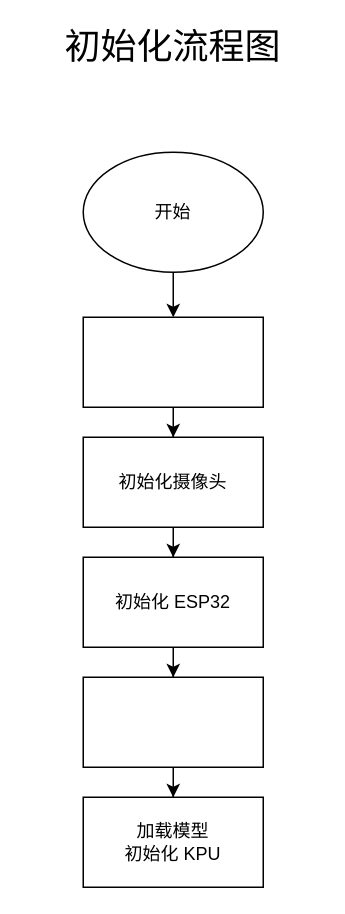
This 345x914 diagram has some shape labels left out. The centre of each missing label's shape, as x and y in pixels:
初始化 Air530: pixel 172 721
显示 LOGO: pixel 172 361
